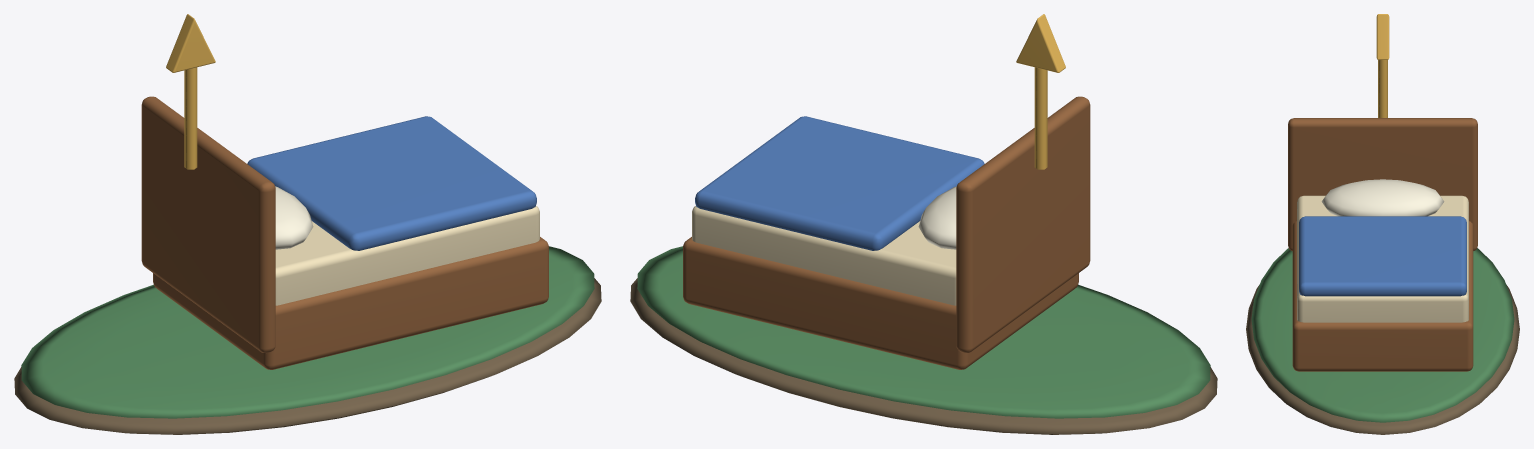
File: rising-bed.glb
3 views of the same model, side by side, from view 1: azimuth 30°, elevation 25°; view 2: azimuth 150°, elevation 25°; view 3: azimuth 270°, elevation 25° (orthographic). The views are drawn at different scales.
Parts seen in each view (by area): view 1: rising-bed_surface_03, rising-bed_surface_01, rising-bed_surface_05, rising-bed_surface_04, rising-bed_surface_00, rising-bed_surface_02, rising-bed_surface_06; view 2: rising-bed_surface_03, rising-bed_surface_01, rising-bed_surface_05, rising-bed_surface_04, rising-bed_surface_00, rising-bed_surface_02, rising-bed_surface_06; view 3: rising-bed_surface_03, rising-bed_surface_01, rising-bed_surface_05, rising-bed_surface_04, rising-bed_surface_00, rising-bed_surface_06, rising-bed_surface_02.
Boxes of the visible parts, x1=… form: rising-bed_surface_03: x1=141, y1=96, x2=548, y2=369; rising-bed_surface_01: x1=21, y1=246, x2=594, y2=418; rising-bed_surface_05: x1=247, y1=116, x2=536, y2=250; rising-bed_surface_04: x1=275, y1=206, x2=539, y2=305; rising-bed_surface_00: x1=14, y1=278, x2=601, y2=434; rising-bed_surface_02: x1=166, y1=14, x2=215, y2=169; rising-bed_surface_06: x1=275, y1=186, x2=313, y2=249; rising-bed_surface_03: x1=683, y1=96, x2=1090, y2=369; rising-bed_surface_01: x1=637, y1=246, x2=1210, y2=418; rising-bed_surface_05: x1=695, y1=116, x2=984, y2=250; rising-bed_surface_04: x1=692, y1=206, x2=956, y2=305; rising-bed_surface_00: x1=630, y1=278, x2=1217, y2=434; rising-bed_surface_02: x1=1016, y1=14, x2=1065, y2=169; rising-bed_surface_06: x1=918, y1=186, x2=956, y2=249; rising-bed_surface_03: x1=1288, y1=118, x2=1477, y2=371; rising-bed_surface_01: x1=1251, y1=248, x2=1514, y2=422; rising-bed_surface_05: x1=1299, y1=216, x2=1466, y2=296; rising-bed_surface_04: x1=1297, y1=195, x2=1468, y2=322; rising-bed_surface_00: x1=1246, y1=284, x2=1519, y2=434; rising-bed_surface_06: x1=1321, y1=179, x2=1444, y2=216; rising-bed_surface_02: x1=1376, y1=14, x2=1389, y2=117.
Bounding box in the file's own units: 4.56 × 2.86 × 2.5.
